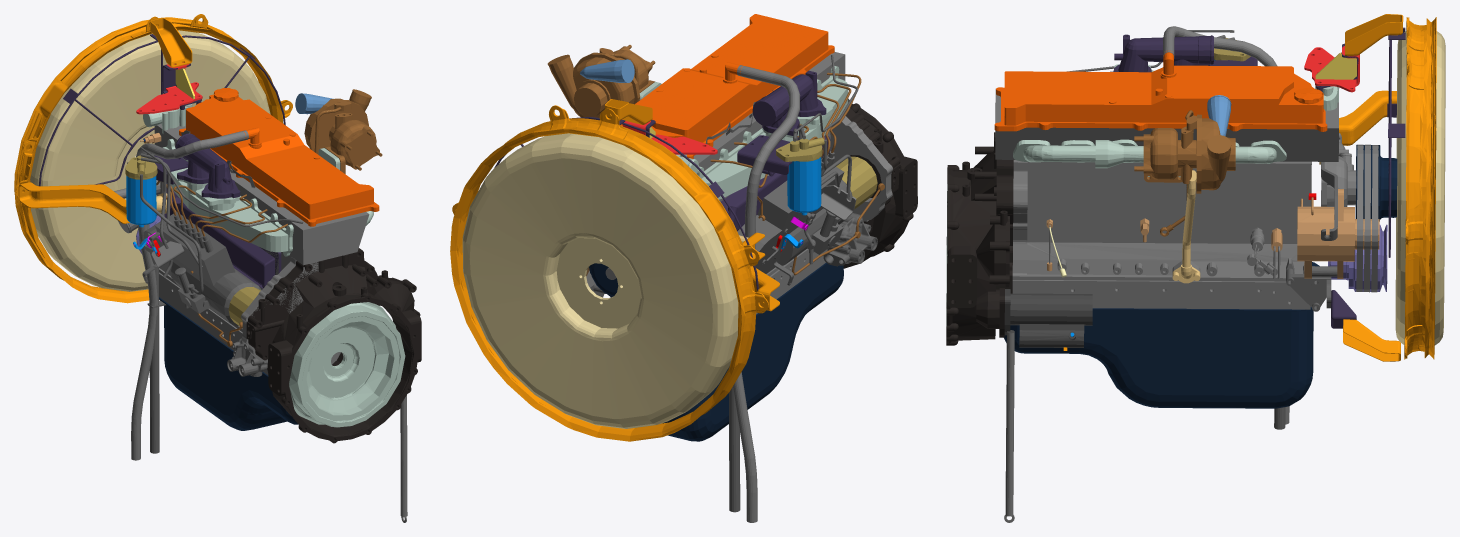
File: engine.glb
The picture shows the model from 3 angles, left to right: view 1: azimuth 30°, elevation 25°; view 2: azimuth 150°, elevation 25°; view 3: azimuth 270°, elevation 25°; orthographic projection. The views are drawn at different scales.
Visible parts, largest first — view 1: ZX370GI_ENGINEENG_6HK1TC_ASM_4436720_2_ZAXIS370GI_jt_ENG_6HK (×27), ZX370GI_ENGINEPPZX330-3CZ-ENG-PARTS-OTHER%58dum1501462_PPZX3 (×4); view 2: ZX370GI_ENGINEENG_6HK1TC_ASM_4436720_2_ZAXIS370GI_jt_ENG_6HK (×23), ZX370GI_ENGINEPPZX330-3CZ-ENG-PARTS-OTHER%58dum1501462_PPZX3 (×4); view 3: ZX370GI_ENGINEENG_6HK1TC_ASM_4436720_2_ZAXIS370GI_jt_ENG_6HK (×28), ZX370GI_ENGINEPPZX330-3CZ-ENG-PARTS-OTHER%58dum1501462_PPZX3 (×4).
Boxes of the visible parts, x1,y1,x2,y2 form: ZX370GI_ENGINEENG_6HK1TC_ASM_4436720_2_ZAXIS370GI_jt_ENG_6HK (×27): (14,14,421,522); ZX370GI_ENGINEPPZX330-3CZ-ENG-PARTS-OTHER%58dum1501462_PPZX3 (×4): (131,68,333,460); ZX370GI_ENGINEENG_6HK1TC_ASM_4436720_2_ZAXIS370GI_jt_ENG_6HK (×23): (450,14,917,512); ZX370GI_ENGINEPPZX330-3CZ-ENG-PARTS-OTHER%58dum1501462_PPZX3 (×4): (580,59,872,522); ZX370GI_ENGINEENG_6HK1TC_ASM_4436720_2_ZAXIS370GI_jt_ENG_6HK (×28): (946,14,1445,522); ZX370GI_ENGINEPPZX330-3CZ-ENG-PARTS-OTHER%58dum1501462_PPZX3 (×4): (1163,26,1359,424).
Bounding box in the file's own units: 2.99 × 4.08 × 4.01.
